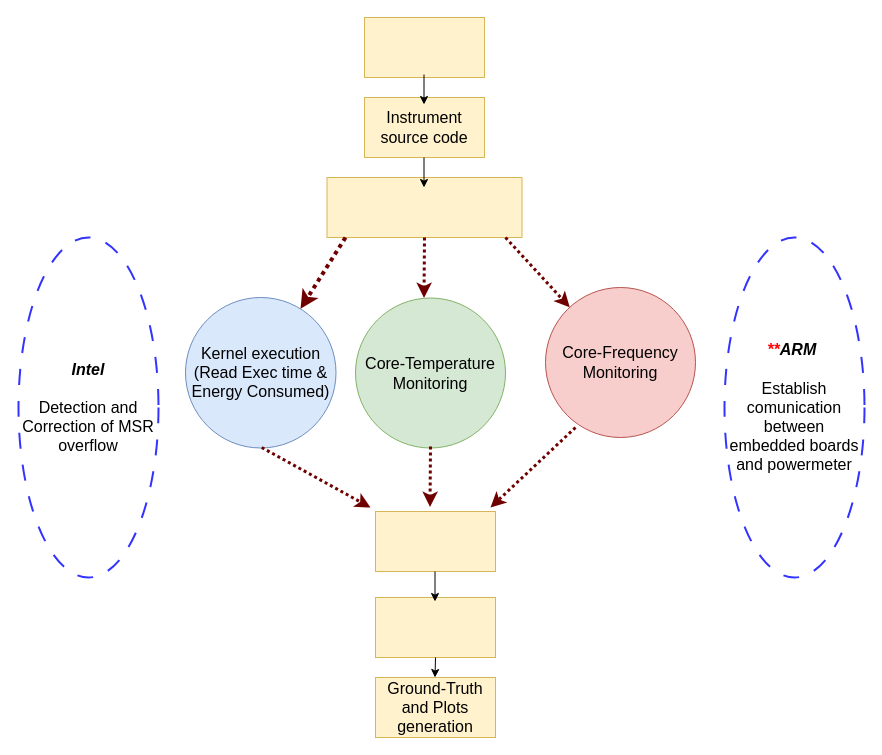
This 882x755 diagram has some shape labels left out. Here are the shapes that lost their labels. From the top down, the centre of each, then its label:
At point (424, 47): "Important Preparations".
At point (424, 207): "Enforce sleep Set sampling frequency".
At point (435, 541): "Collate results in main thread".
At point (435, 627): "CSV writeback".
